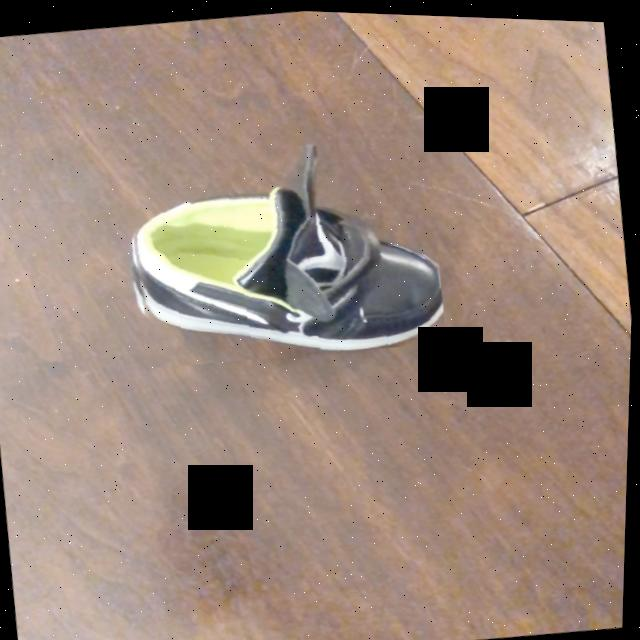shoe: (135, 146, 445, 349)
